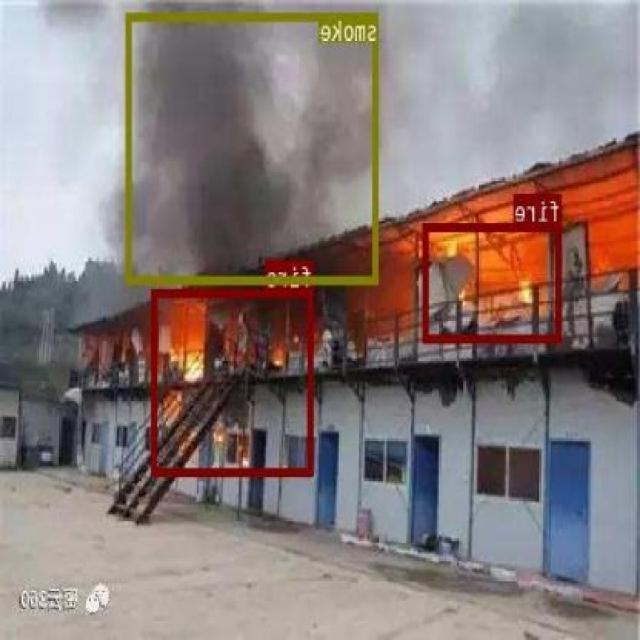Fire: (152, 288, 314, 474), (424, 222, 564, 342)
Smoke: (127, 11, 380, 282)
